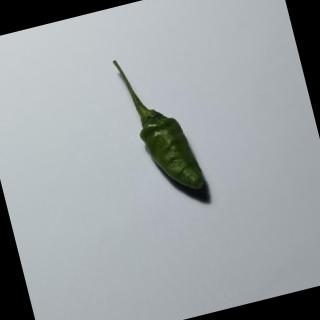Cabai Hijau: (106, 41, 216, 218)
